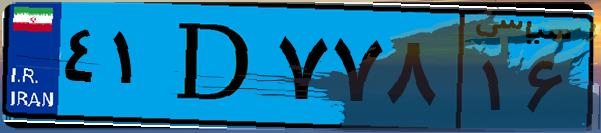1: (475, 38, 525, 113), (110, 28, 158, 98)
4: (57, 26, 110, 100)
6: (525, 38, 570, 115)
7: (270, 28, 330, 110), (330, 28, 385, 110)
8: (385, 28, 445, 110)
D: (158, 12, 270, 120)
